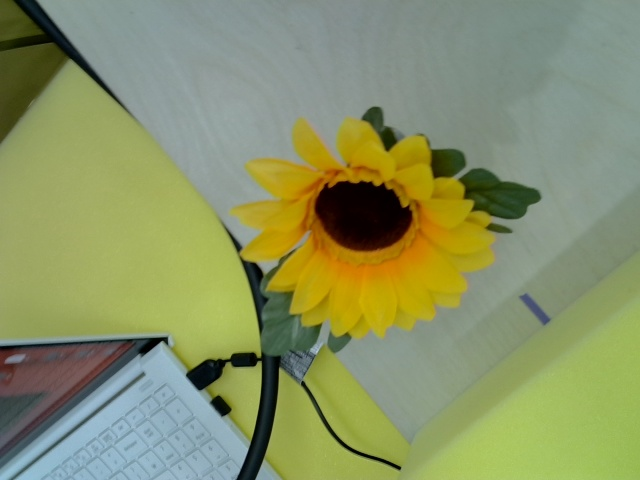해바라기: (239, 125, 487, 340)
